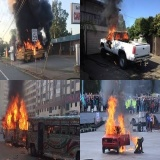fire: (105, 93, 130, 152), (2, 96, 28, 130), (105, 26, 130, 44), (24, 34, 46, 52), (130, 132, 143, 153), (46, 126, 52, 132), (6, 142, 11, 146), (21, 136, 25, 140)
